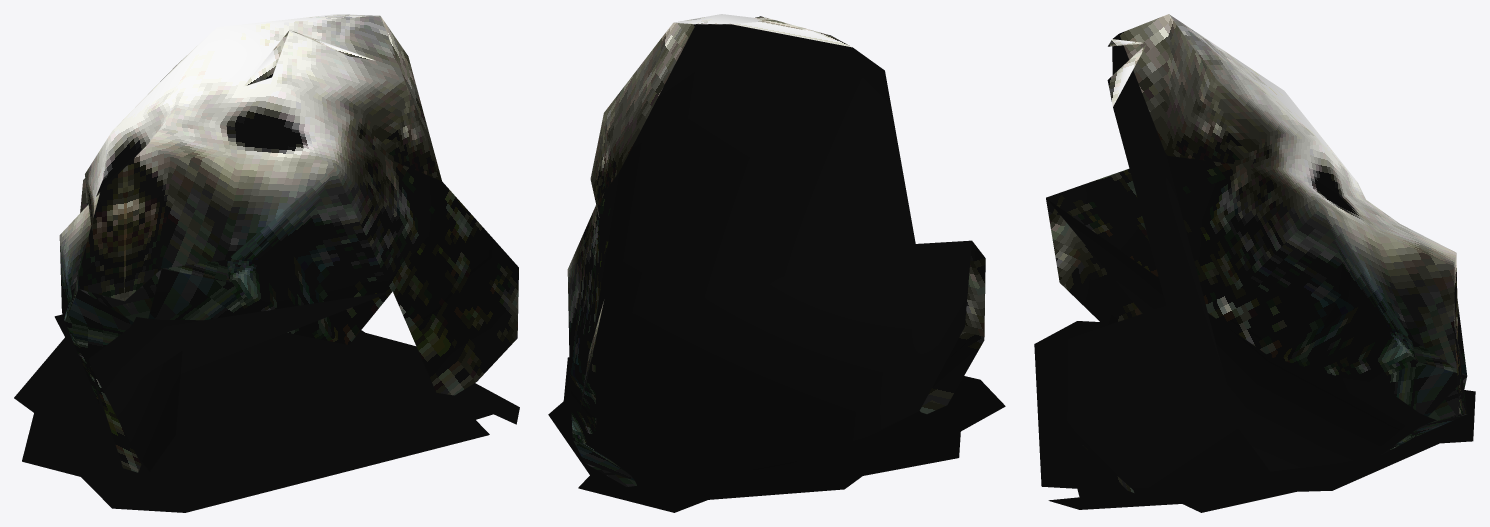
File: ps2_save-icons_headhunterredemption.glb
3 views of the same model, side by side, from view 1: azimuth 30°, elevation 25°; view 2: azimuth 150°, elevation 25°; view 3: azimuth 270°, elevation 25° (orthographic). The views are drawn at different scales.
Parts seen in each view (by area): view 1: list.ico; view 2: list.ico; view 3: list.ico.
Boxes of the visible parts, left/top/right/bottom form: list.ico: left=14, top=14, right=519, bottom=512; list.ico: left=548, top=14, right=1005, bottom=512; list.ico: left=1034, top=14, right=1475, bottom=512.
Bounding box in the file's own units: 1.76 × 1.57 × 1.64.
Materials: 1 (1 with a texture image).
